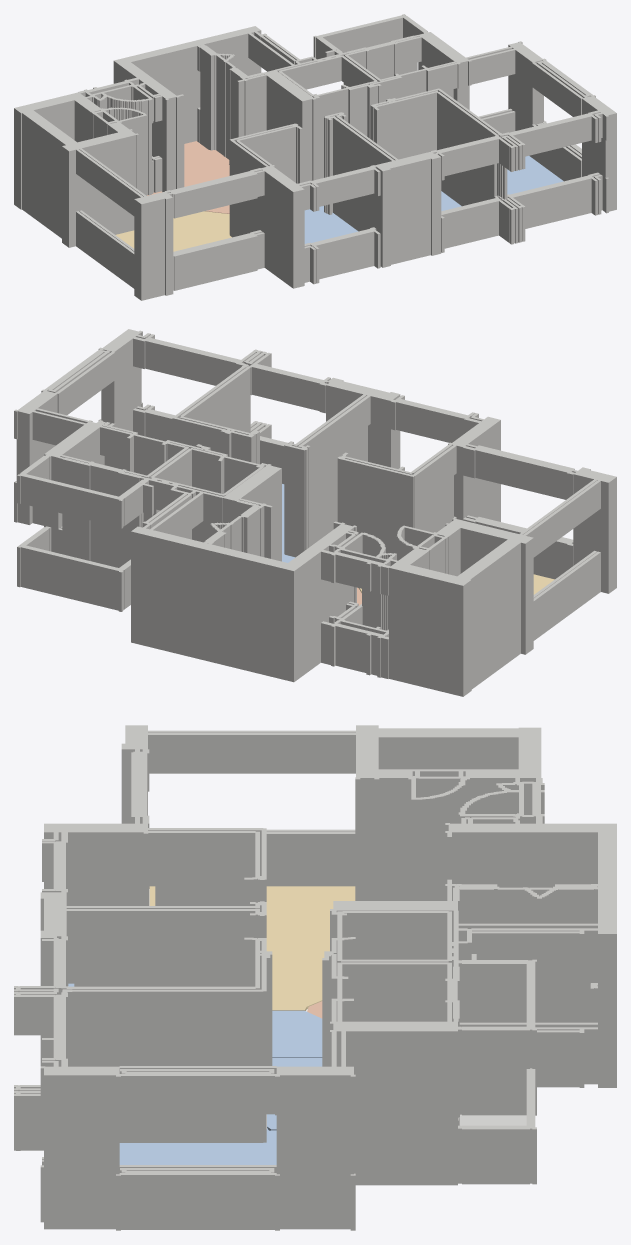
The picture shows the model from 3 angles, top to bottom: view 1: azimuth 30°, elevation 25°; view 2: azimuth 150°, elevation 25°; view 3: azimuth 270°, elevation 25°; orthographic projection. The views are drawn at different scales.
Visible parts, largest first — view 1: walls, room:living:6, room:kitchen:0, room:bedroom:5, room:bedroom:8; view 2: walls; view 3: walls, room:living:6, room:bedroom:8, room:bedroom:5, room:ledge:2.
Part boxes in pixels (x1=…): walls: x1=14, y1=14, x2=616, y2=300; room:living:6: x1=116, y1=211, x2=231, y2=251; room:kitchen:0: x1=147, y1=141, x2=229, y2=213; room:bedroom:5: x1=304, y1=206, x2=358, y2=243; room:bedroom:8: x1=507, y1=156, x2=563, y2=194; walls: x1=14, y1=329, x2=616, y2=696; walls: x1=14, y1=725, x2=616, y2=1230; room:living:6: x1=149, y1=886, x2=355, y2=1010; room:bedroom:8: x1=119, y1=1128, x2=276, y2=1164; room:bedroom:5: x1=68, y1=983, x2=322, y2=1057; room:ledge:2: x1=459, y1=1114, x2=526, y2=1125.
Bounding box in the file's own units: 13.71 × 2.8 × 9.94.
